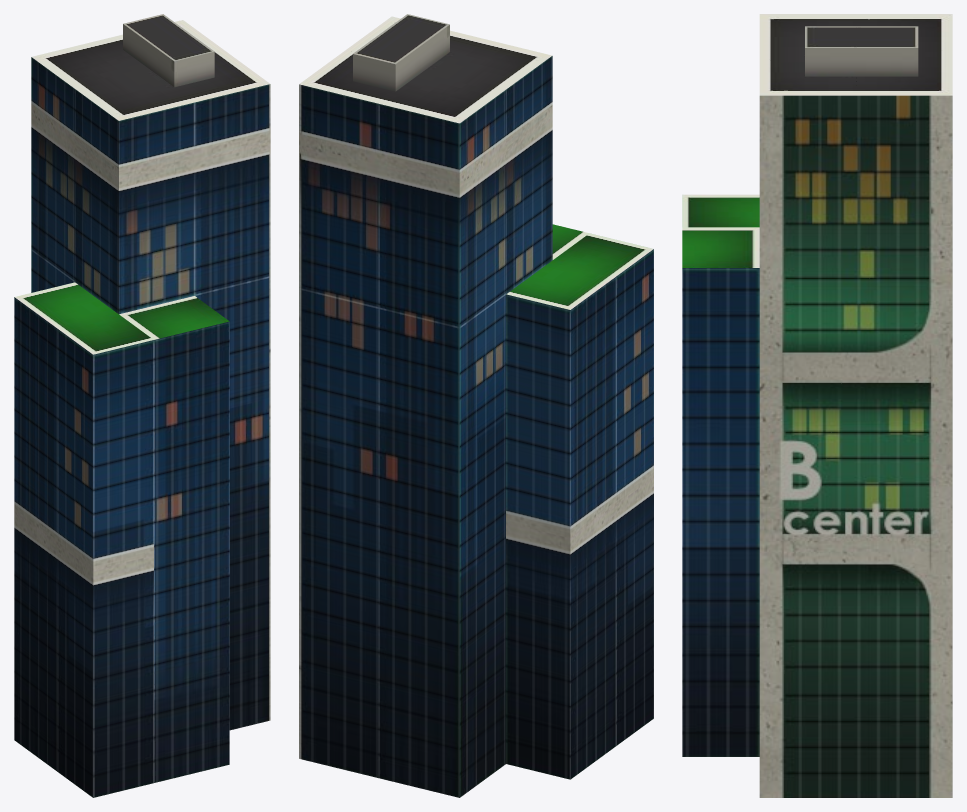
The model's file is House_4.FBX.
The picture shows the model from 3 angles, left to right: view 1: azimuth 30°, elevation 25°; view 2: azimuth 150°, elevation 25°; view 3: azimuth 270°, elevation 25°; orthographic projection. The views are drawn at different scales.
Visible parts, largest first — view 1: House_4; view 2: House_4; view 3: House_4.
Part boxes in pixels (x1,y1,x2,y2): House_4: [14, 14, 270, 797]; House_4: [299, 14, 653, 797]; House_4: [682, 14, 952, 797].
Bounding box in the file's own units: 35 × 104 × 35.
1 material, 1 textured.
